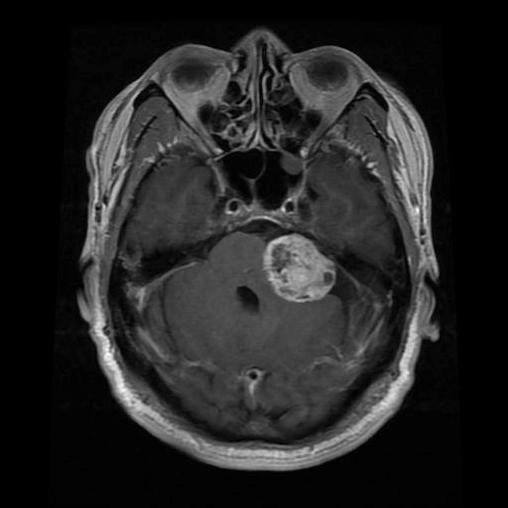Tumour-Meningioma: (220, 212, 378, 311)
